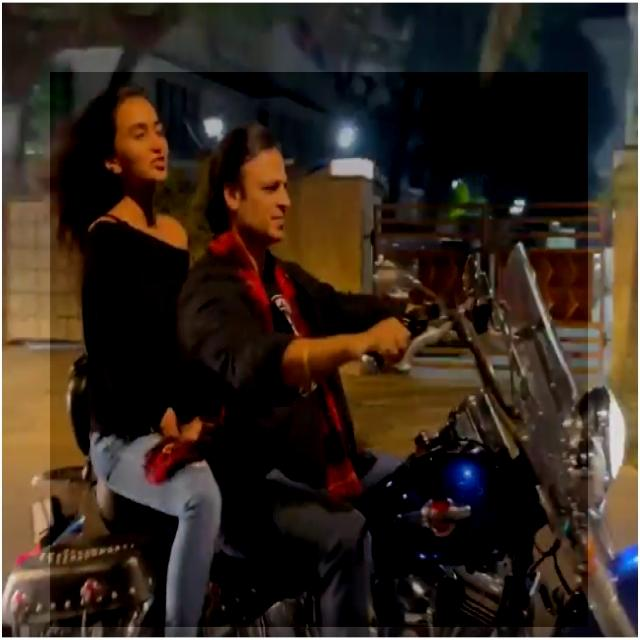Bike: (50, 72, 588, 627)
